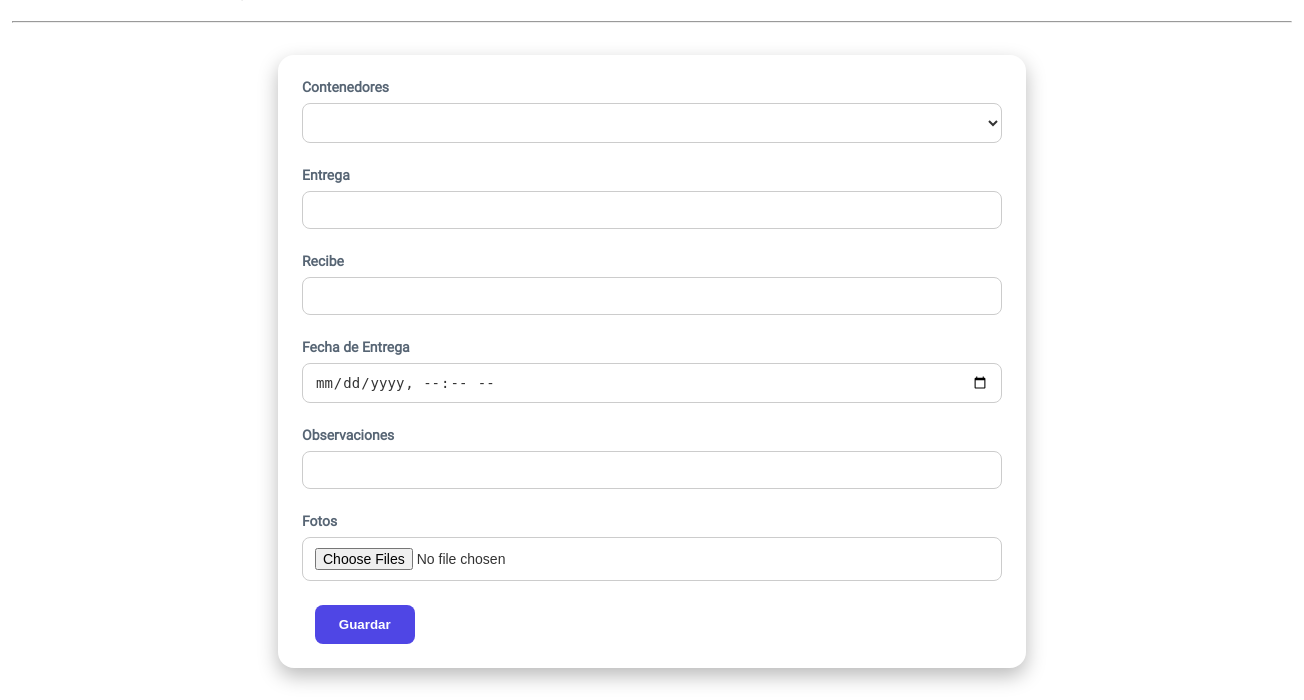
Test case: EntregaPrescinto › deberia mostrar error si se intenta guardar sin fotos
(page scrolled)
Haz click en guardar (el botón es el único de tipo submit)
Click the button "Guardar" at x=365, y=624, box [315, 605, 415, 644]
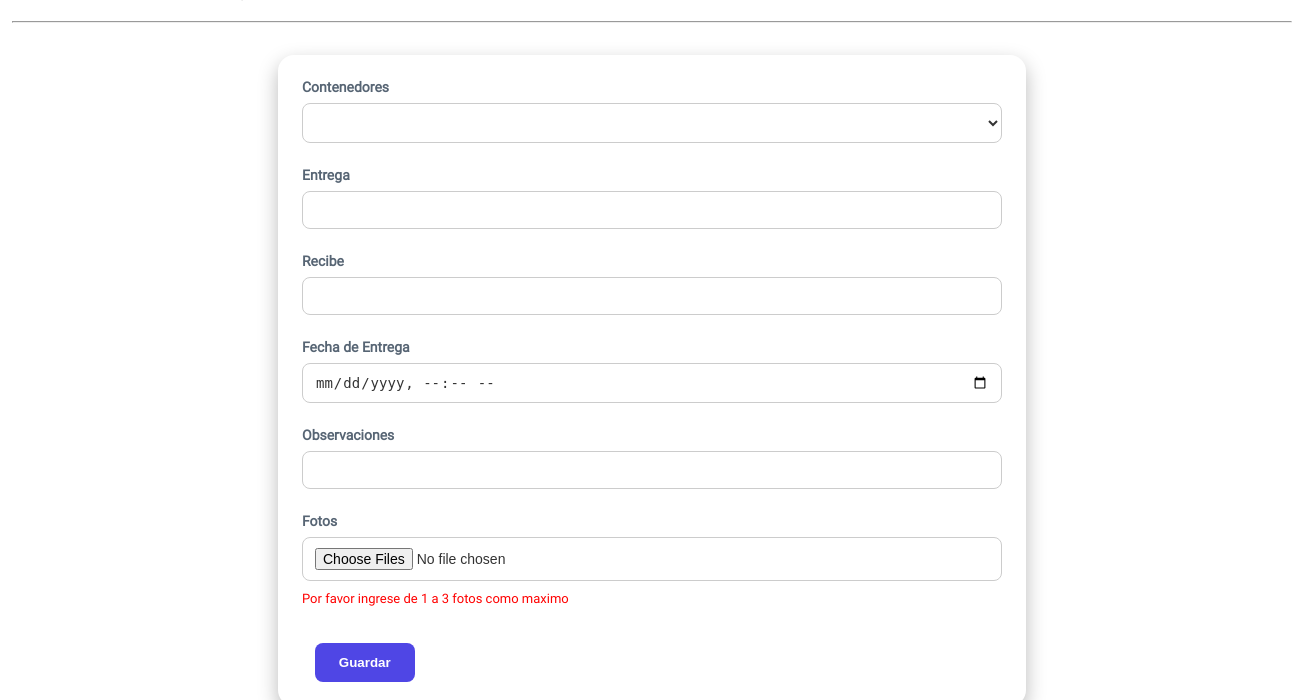
Now the text "Por favor ingrese de 1 a 3 fotos como maximo" is shown, box [302, 591, 569, 606]
